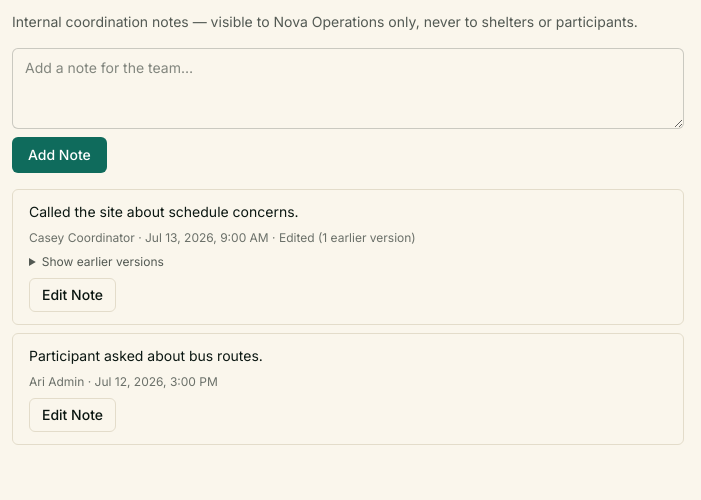
Test case: CaseNotesTab (Story 5.9) › marks edited notes and discloses the preserved earlier versions (AC5)
Expected: the text "Edited (1 earlier version)" is shown, x1=269 y1=230 x2=416 y2=245
Click the heading "Show earlier versions": (103, 262) x1=42 y1=254 x2=164 y2=269
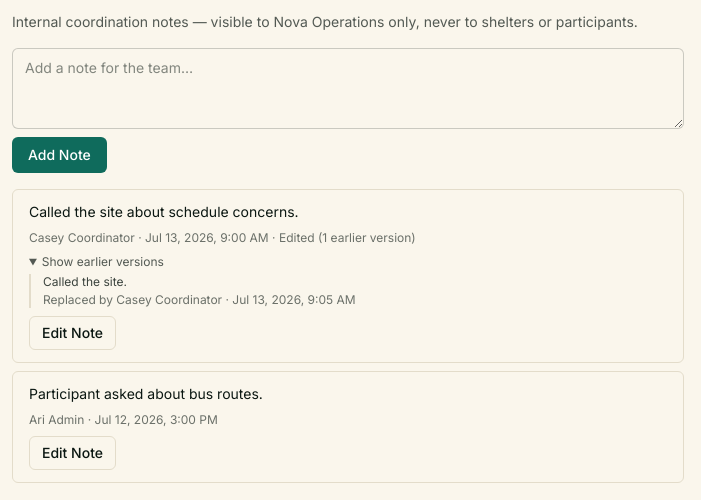
Expected: the text "Called the site." is shown, x1=43 y1=274 x2=127 y2=289
Expected: the text "Replaced by Casey Coordinator · Jul 13, 2026, 9:05 AM" is shown, x1=43 y1=292 x2=356 y2=307
